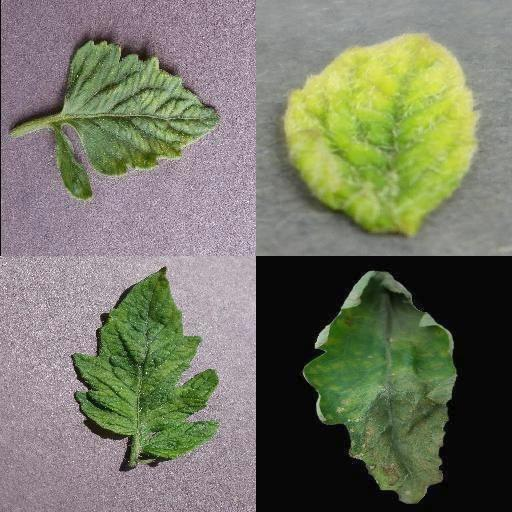Late Blight: (303, 272, 459, 504)
Mosaic Virus: (69, 264, 219, 460), (53, 36, 223, 202)
Yellow Leaf Curl Virus: (281, 33, 480, 233)
